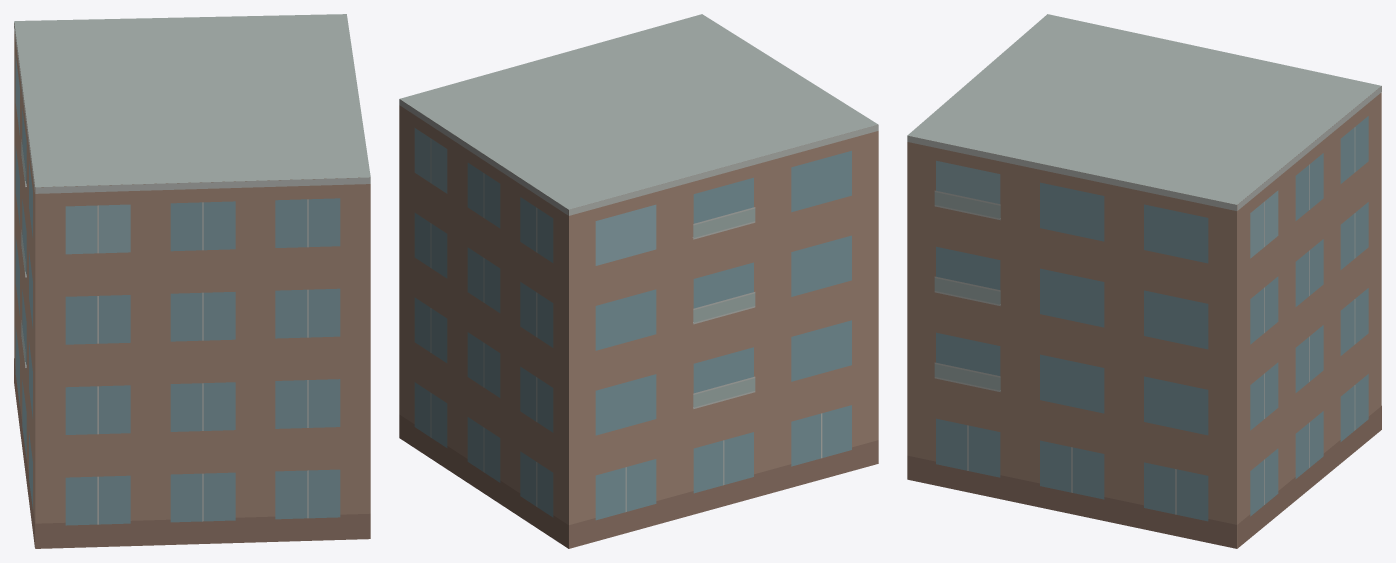
File: survey-upis-32622149.glb
3 renders of one model, left to right at view 1: azimuth 30°, elevation 25°; view 2: azimuth 150°, elevation 25°; view 3: azimuth 270°, elevation 25°, orthographic. The views are drawn at different scales.
Parts seen in each view (by area): view 1: survey-upis-32622149.tmp; view 2: survey-upis-32622149.tmp; view 3: survey-upis-32622149.tmp.
Part boxes in pixels (x1,y1,x2,y2): survey-upis-32622149.tmp: [14, 14, 370, 548]; survey-upis-32622149.tmp: [399, 14, 878, 548]; survey-upis-32622149.tmp: [907, 14, 1381, 548].
Bounding box in the file's own units: 15.9 × 13.35 × 16.7.
